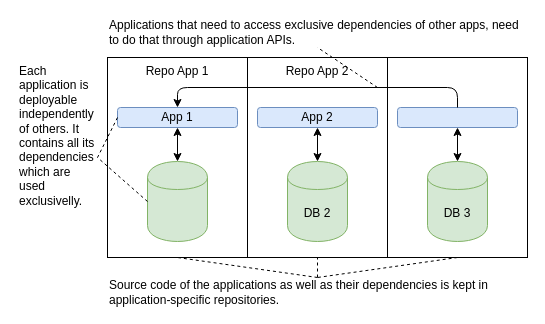
The diagram is 545 pixels wide and 324 high, and some of its shapes have lost their labels. The shapes that lost their labels are listed below. From the top down, each one's box as (x1, y1, x2, y2) in pixels, then its label:
(396, 106, 518, 128): App 3
(386, 56, 528, 258): Repo App 3
(146, 160, 208, 242): DB 1
